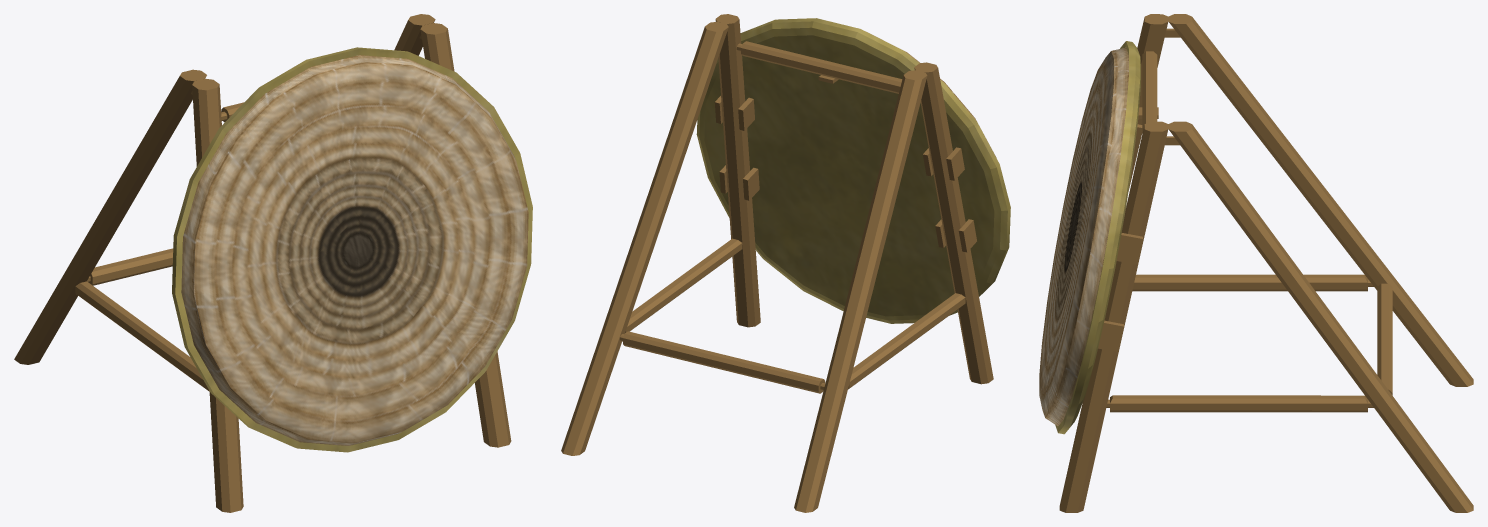
Rendered from targetdummy.fbx.
The picture shows the model from 3 angles, left to right: view 1: azimuth 30°, elevation 25°; view 2: azimuth 150°, elevation 25°; view 3: azimuth 270°, elevation 25°; orthographic projection. The views are drawn at different scales.
Visible parts, largest first — view 1: targetdummy; view 2: targetdummy; view 3: targetdummy.
Boxes of the visible parts, x1,y1,x2,y2 form: targetdummy: (14,14,532,512); targetdummy: (561,14,1010,512); targetdummy: (1039,14,1473,512).
Bounding box in the file's own units: 2.37 × 2.52 × 2.58.
Materials: 1 (1 with a texture image).
